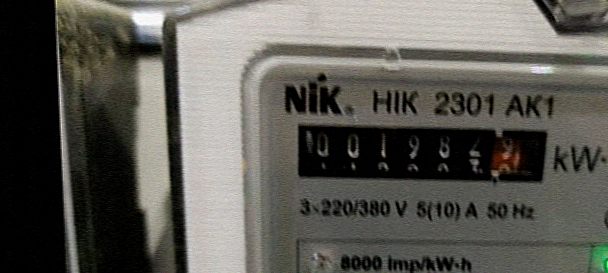0: (343, 129, 361, 159), (313, 127, 330, 157)
1: (375, 128, 388, 158)
2: (465, 127, 484, 157)
8: (435, 130, 452, 158)
9: (496, 132, 517, 161), (404, 130, 420, 159)
screen: (278, 98, 563, 205)
